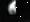person: (8, 1, 19, 17)
